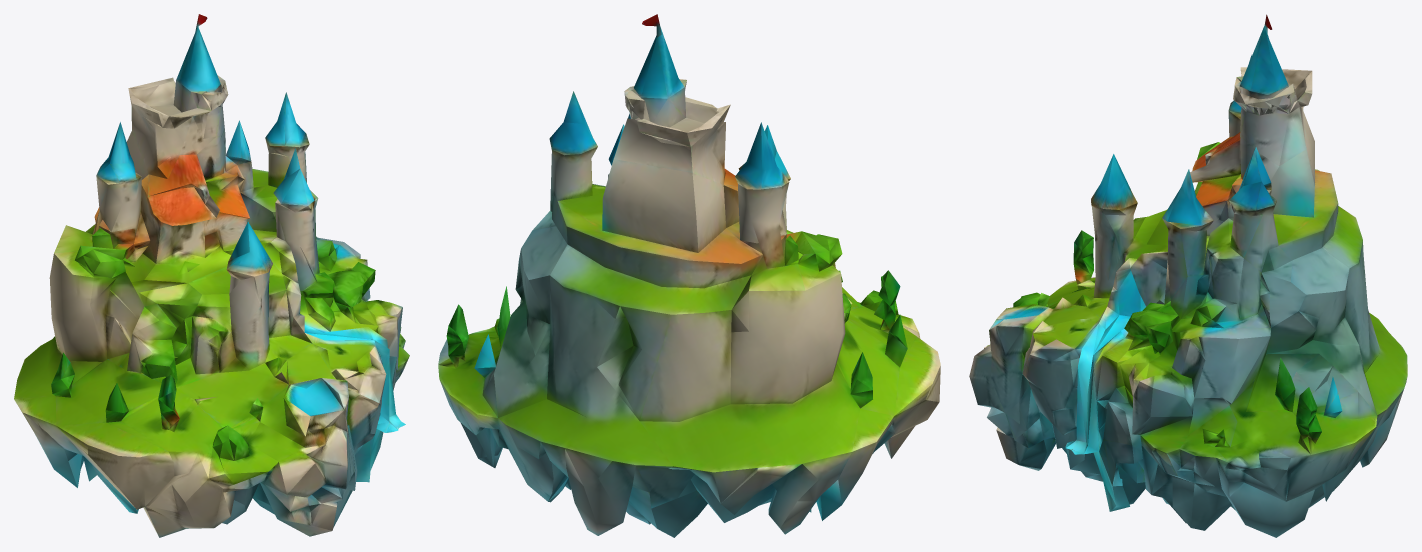
File: m2SkyIslandCastle.glb
3 views of the same model, side by side, from view 1: azimuth 30°, elevation 25°; view 2: azimuth 150°, elevation 25°; view 3: azimuth 270°, elevation 25° (orthographic). The views are drawn at different scales.
Parts seen in each view (by area): view 1: model; view 2: model; view 3: model.
Part boxes in pixels (box(x1,y1,x2,y2)): model: box(14, 14, 409, 537); model: box(438, 14, 940, 537); model: box(969, 14, 1407, 537).
Bounding box in the file's own units: 1.67 × 1.91 × 1.63.
1 material, 1 textured.
